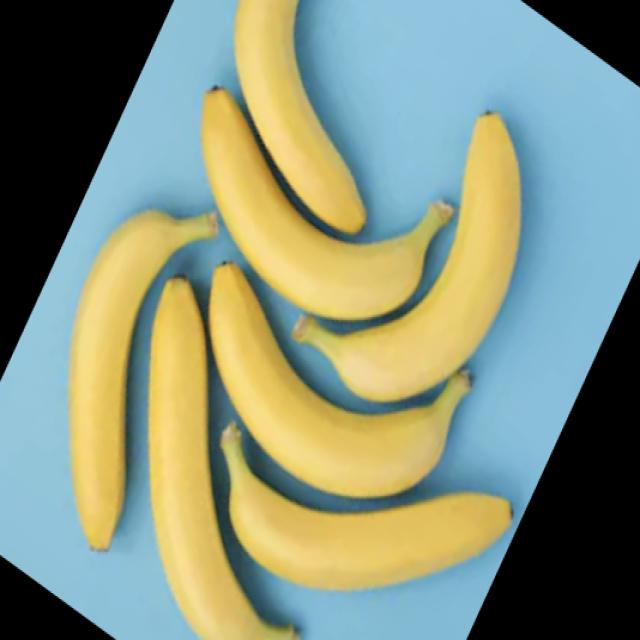god quality banana: (209, 112, 521, 499), (203, 86, 454, 321), (149, 278, 295, 639), (70, 211, 214, 551), (222, 426, 512, 591), (236, 2, 366, 233)
